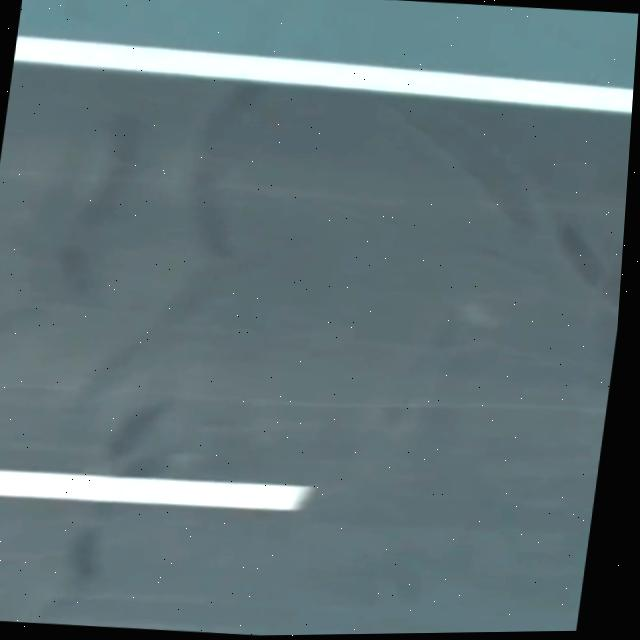center: (0, 468, 313, 509)
left: (13, 33, 634, 111)
